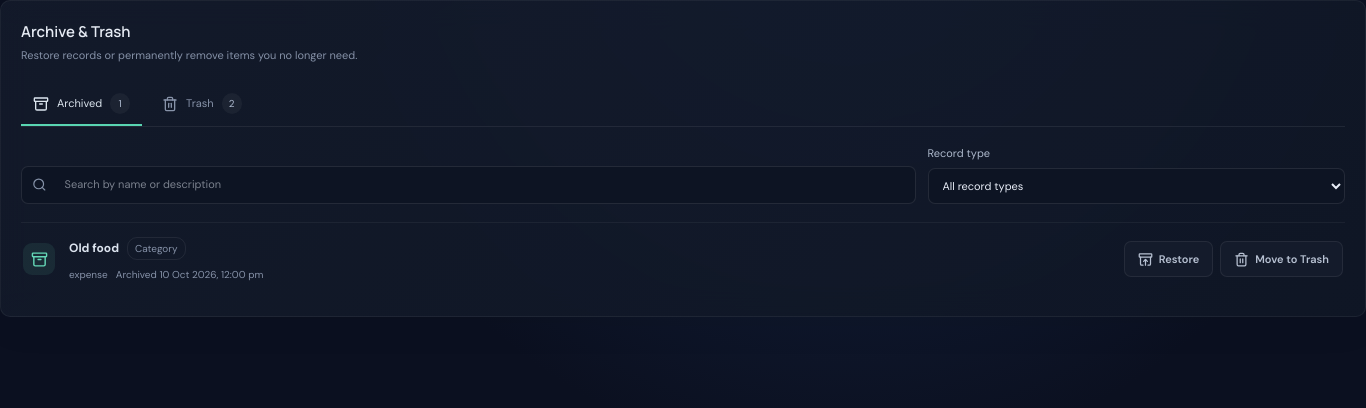
Scenario: AI proposal confirmation › Archive & Trash › switches tabs and searches/filters records
Expected: the text "Old food" is shown, [69,239,119,257]
In the field named "Search records": (485, 184) [55,166,914,202], type "old"
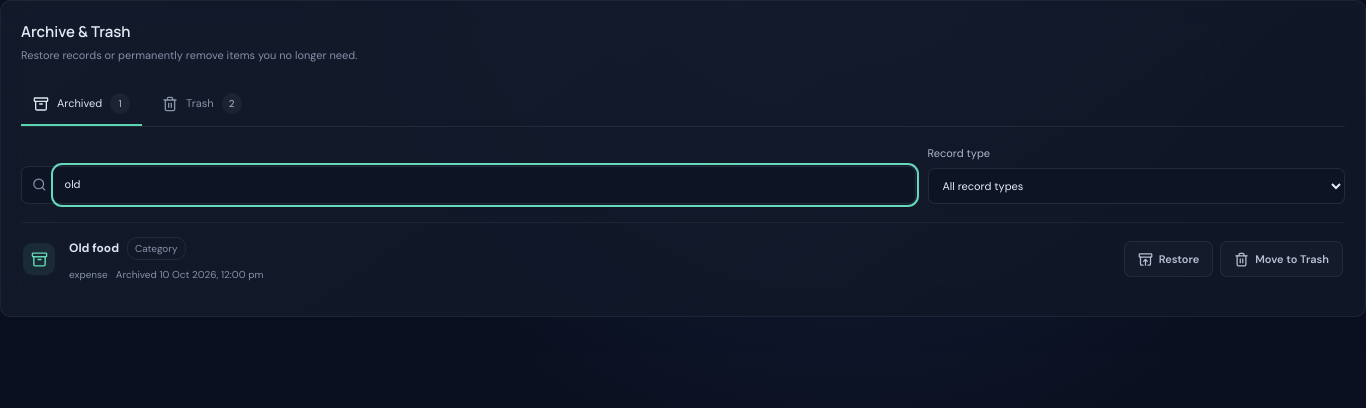
Expected: the text "Old food" is shown, [69,239,119,257]
Expected: the text "Removed food" is not shown
Clear the field named "Search records": (485, 184) [55,166,914,202]
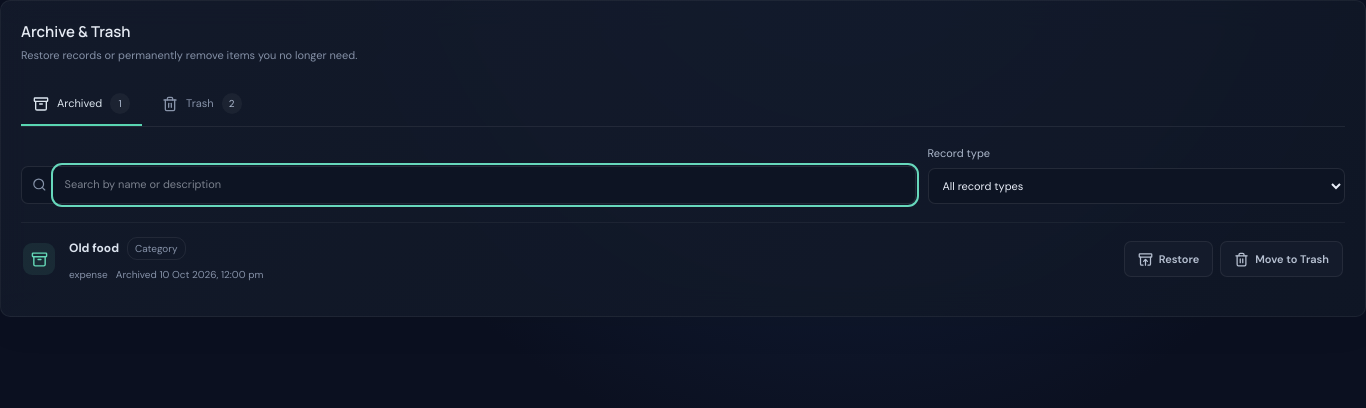
Click the tab "Trash 2": (202, 104) [150,83,254,126]
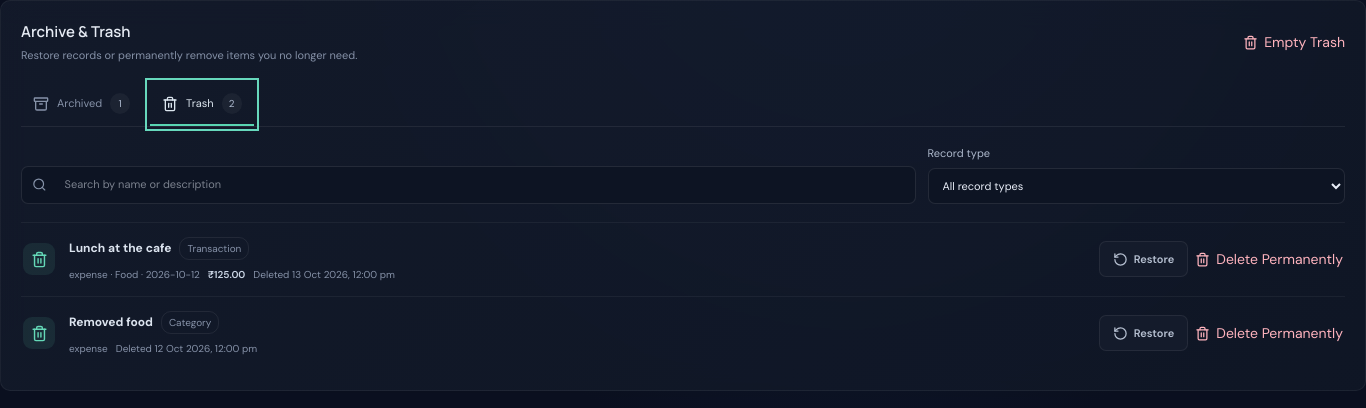
Select "Category" in the dropdown named "Filter by record type": (1136, 186) [928,168,1345,204]
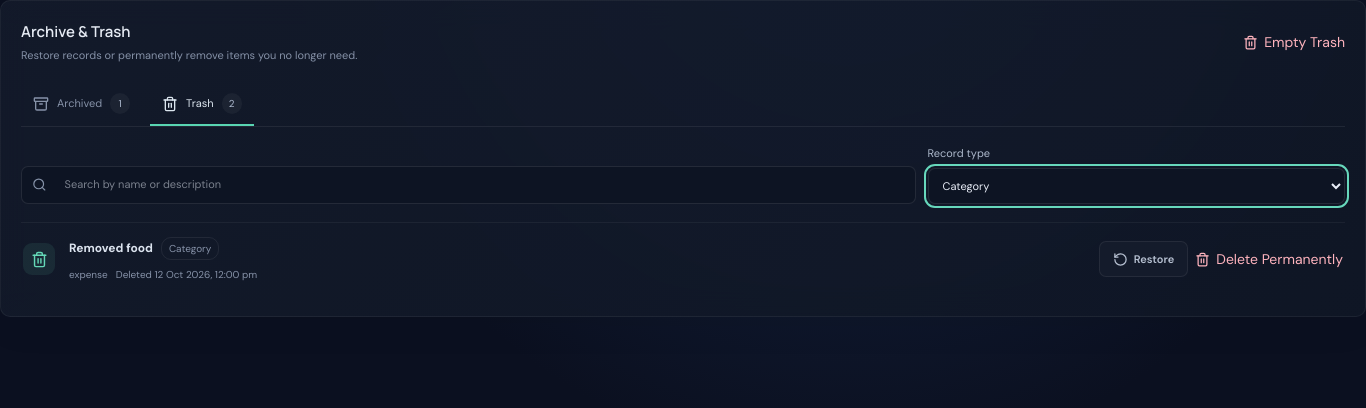
Expected: the text "Removed food" is shown, [69,239,153,257]
Expected: the text "Lunch at the cafe" is gone
